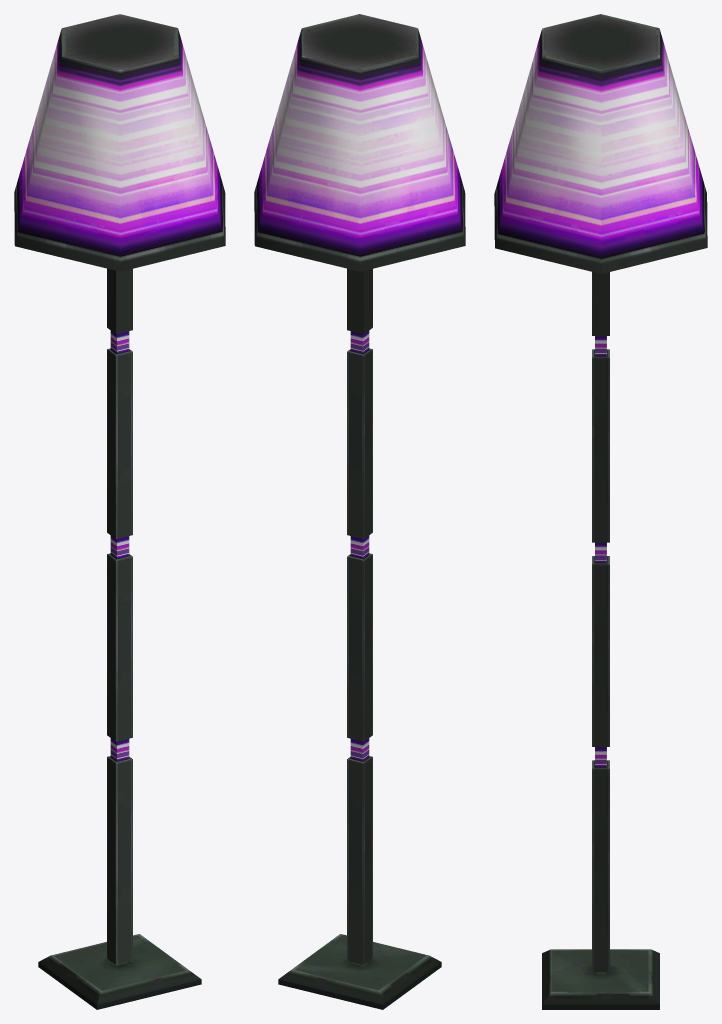
File: furni_0200603_02.FBX
3 renders of one model, left to right at view 1: azimuth 30°, elevation 25°; view 2: azimuth 150°, elevation 25°; view 3: azimuth 270°, elevation 25°, orthographic.
Visible parts, largest first — view 1: furni_0200603_02; view 2: furni_0200603_02; view 3: furni_0200603_02.
Part boxes in pixels (x1,y1,x2,y2): furni_0200603_02: (14, 14, 225, 1009); furni_0200603_02: (254, 14, 465, 1009); furni_0200603_02: (494, 14, 707, 1009).
Size of the model in its own units: 43.06 by 182 by 37.38.
1 material, 1 textured.
